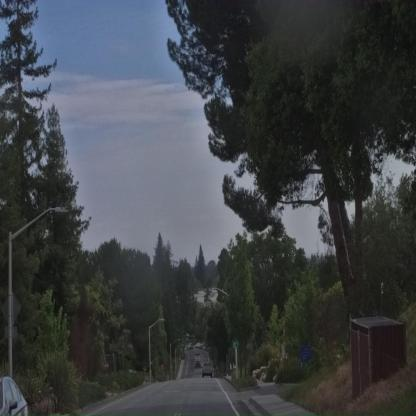car: (0, 374, 30, 415), (201, 362, 213, 378)
